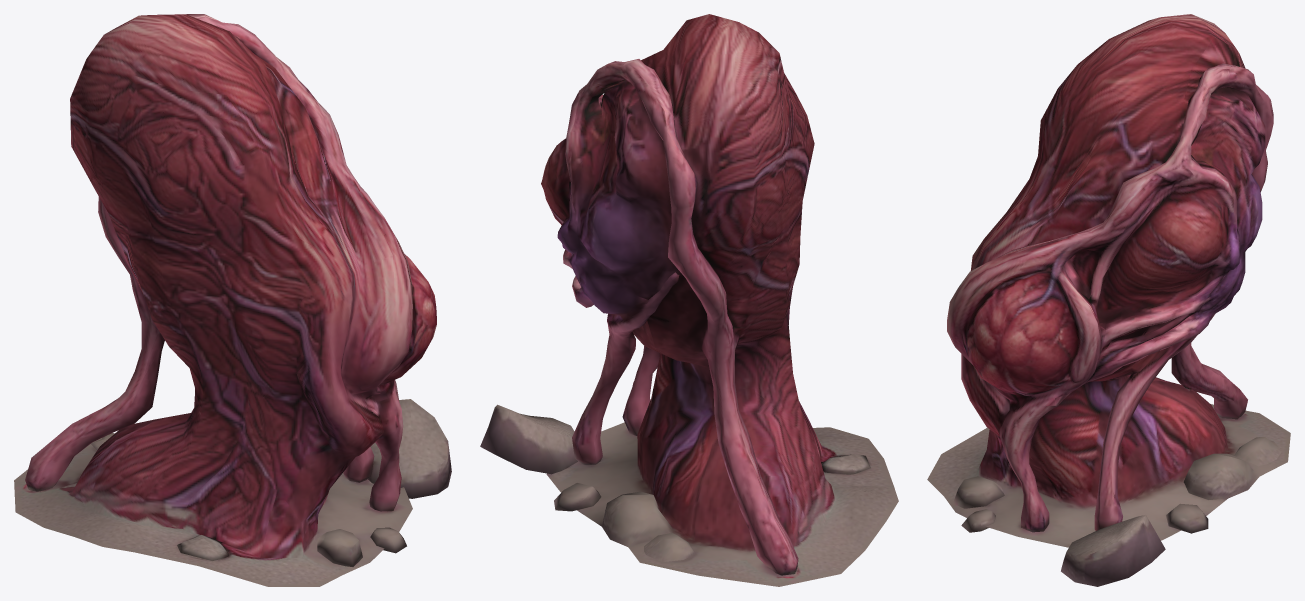
File: organic2.fbx
The picture shows the model from 3 angles, left to right: view 1: azimuth 30°, elevation 25°; view 2: azimuth 150°, elevation 25°; view 3: azimuth 270°, elevation 25°; orthographic projection. The views are drawn at different scales.
Visible parts, largest first — view 1: tripo_node_11bd1eb4.002; view 2: tripo_node_11bd1eb4.002; view 3: tripo_node_11bd1eb4.002.
Boxes of the visible parts, box(x1,y1,x2,y2) form: tripo_node_11bd1eb4.002: box(14, 14, 451, 586); tripo_node_11bd1eb4.002: box(480, 14, 898, 586); tripo_node_11bd1eb4.002: box(927, 14, 1290, 586).
Bounding box in the file's own units: 0.5703 × 0.6953 × 0.5.
